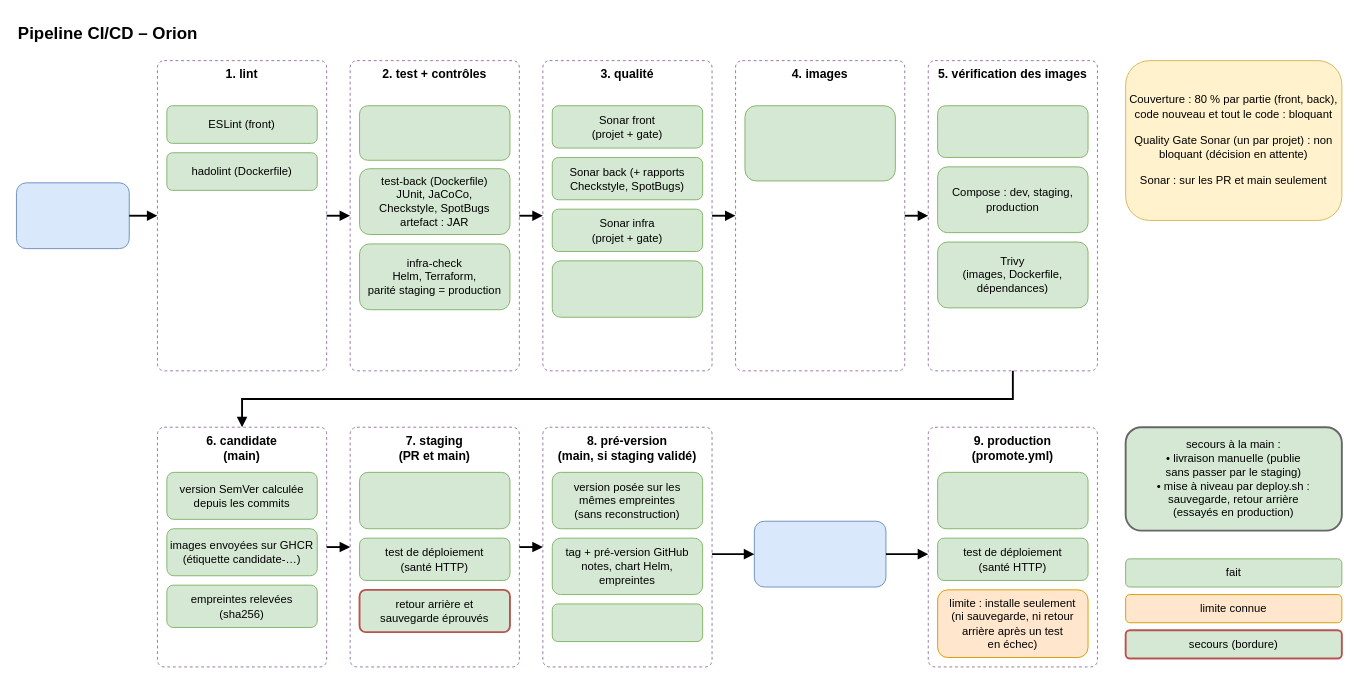
This 1359x683 diagram has some shape labels left out. Here are the shapes that lost their labels. From the top down, the centre of each, then its label:
At pixel 434 132: "test-front (Dockerfile) compile, Vitest → lcov artefact : front compilé".
At pixel 819 143: "images : front, back à partir des artefacts des tests (sans recompiler)".
At pixel 1012 131: "tests de bout en bout Playwright (Chromium)".
At pixel 72 215: "push / pull request (sauf documentation seule)".
At pixel 627 288: "seuils de couverture 80 % front / back (bloquant)".
At pixel 434 500: "dev puis staging (kind) Terraform + Helm sur main : par empreinte".
At pixel 1012 500: "mêmes empreintes qu'en staging (kind jetable) Terraform + Helm".
At pixel 819 553: "à la main : passer la pré-version en release".
At pixel 627 622: "notification du résultat".
